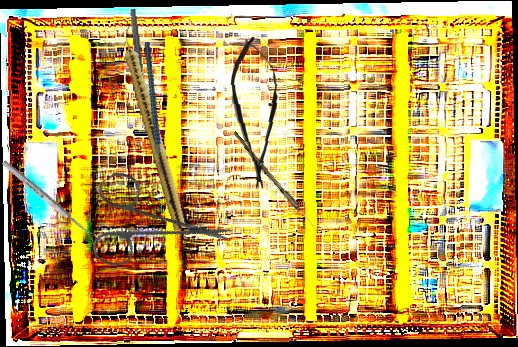Chopper: (116, 41, 199, 180)
Handpiece: (116, 25, 191, 231)
Iris Scissors: (61, 136, 237, 311)
Micro Scissor: (228, 35, 284, 191)
Surgical Spoon: (230, 131, 325, 237), (0, 159, 98, 242), (128, 8, 150, 129)
